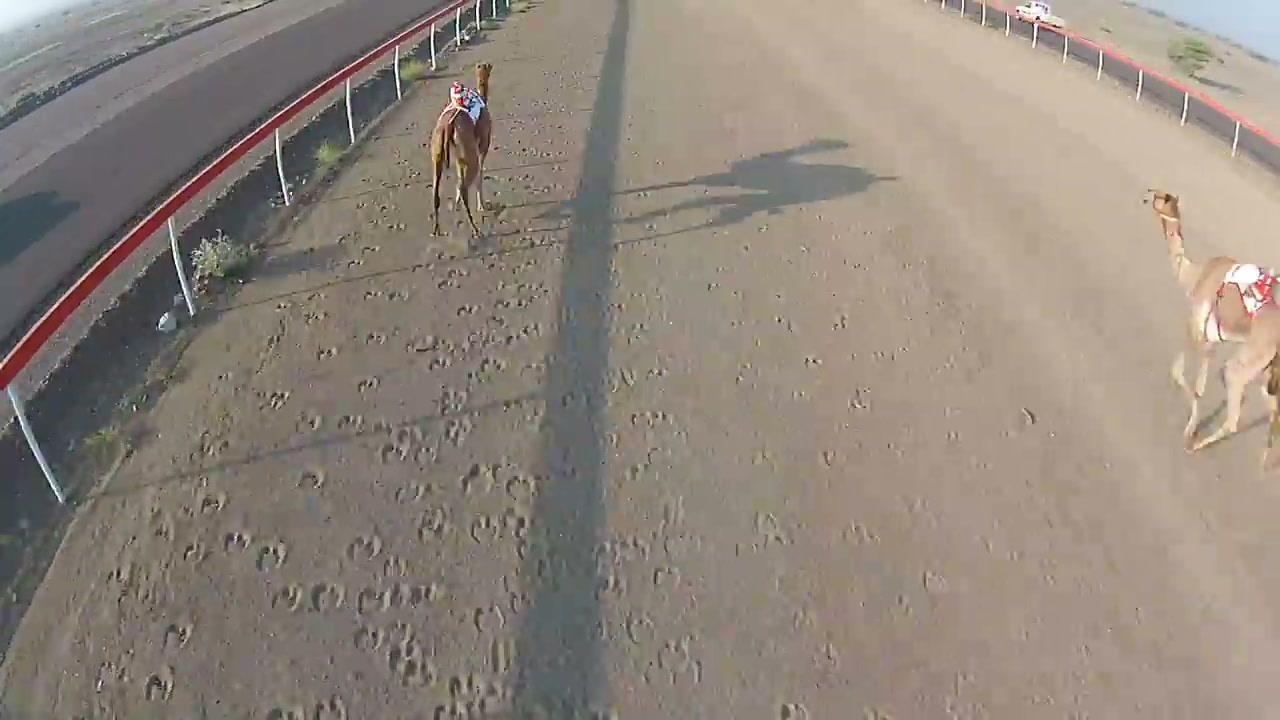animal_foot_print: (432, 673, 512, 719), (386, 632, 437, 687), (356, 583, 440, 614), (378, 424, 436, 464), (656, 636, 702, 684), (419, 507, 451, 542), (144, 666, 174, 701), (309, 582, 344, 612), (472, 604, 506, 634), (489, 638, 515, 676), (347, 533, 382, 561), (255, 540, 286, 571), (162, 622, 193, 651), (271, 584, 304, 611), (445, 417, 474, 446), (312, 695, 346, 719), (394, 482, 431, 504), (196, 490, 227, 515), (257, 390, 291, 411), (182, 540, 209, 564), (295, 411, 323, 433), (297, 468, 325, 490), (265, 704, 306, 719), (224, 531, 252, 552), (778, 702, 809, 719), (336, 415, 364, 433), (357, 376, 379, 393), (317, 347, 338, 360)
